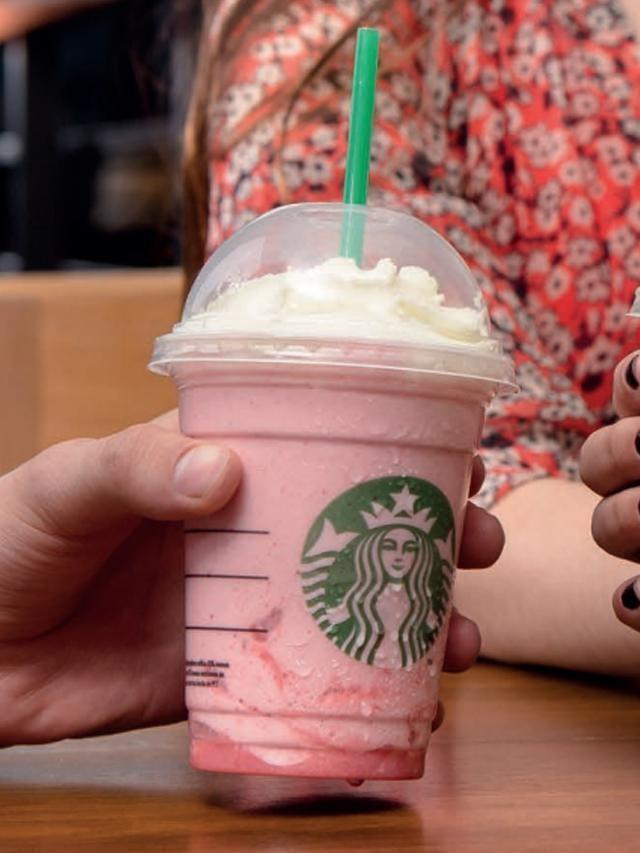cup-disposable: (146, 198, 514, 781)
